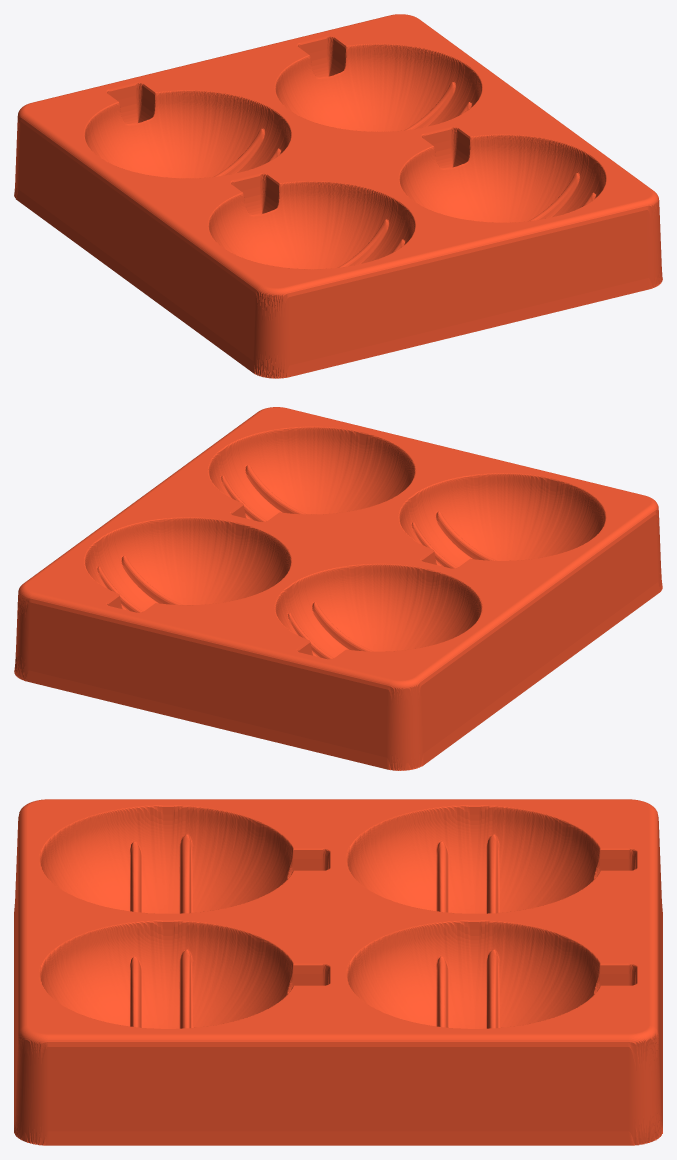
File: mold.glb
3 views of the same model, one above another, from view 1: azimuth 30°, elevation 25°; view 2: azimuth 150°, elevation 25°; view 3: azimuth 270°, elevation 25° (orthographic). The views are drawn at different scales.
Parts seen in each view (by area): view 1: geometry_0; view 2: geometry_0; view 3: geometry_0.
Part boxes in pixels (bbox=[...]): geometry_0: bbox=[14, 14, 662, 378]; geometry_0: bbox=[14, 407, 662, 770]; geometry_0: bbox=[14, 799, 662, 1145].
Size of the model in its own units: 0.1539 by 0.031 by 0.1721.
